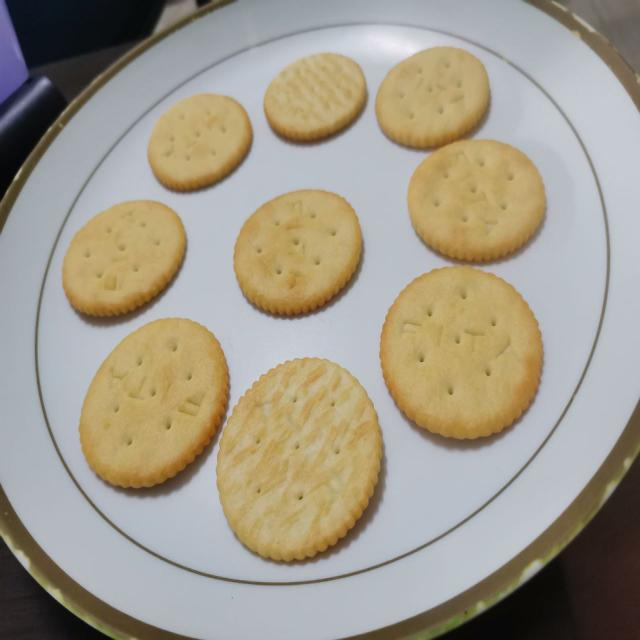intact biscuit: (215, 354, 383, 562), (379, 263, 544, 441), (78, 315, 230, 490), (406, 137, 546, 262), (232, 186, 363, 316), (61, 197, 187, 318), (374, 44, 490, 149), (146, 91, 252, 192), (262, 50, 368, 143)
